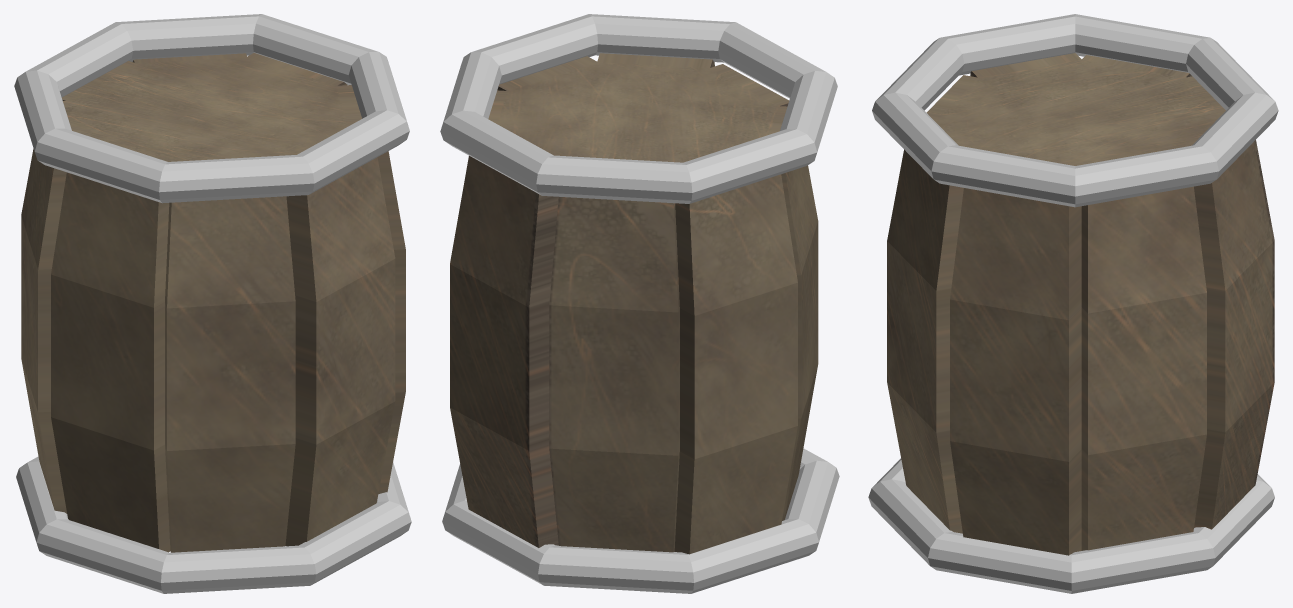
Rendered from barrel.obj.
3 renders of one model, left to right at view 1: azimuth 30°, elevation 25°; view 2: azimuth 150°, elevation 25°; view 3: azimuth 270°, elevation 25°, orthographic.
Parts seen in each view (by area): view 1: Cylinder.003_Cylinder.004, Torus.001, Torus; view 2: Cylinder.003_Cylinder.004, Torus.001, Torus; view 3: Cylinder.003_Cylinder.004, Torus.001, Torus.
Boxes of the visible parts, x1,y1,x2,y2 form: Cylinder.003_Cylinder.004: (21, 53, 405, 552); Torus.001: (14, 14, 409, 203); Torus: (16, 456, 411, 593); Cylinder.003_Cylinder.004: (450, 53, 818, 554); Torus.001: (440, 14, 837, 203); Torus: (442, 448, 839, 593); Cylinder.003_Cylinder.004: (887, 53, 1274, 555); Torus.001: (872, 14, 1278, 207); Torus: (868, 458, 1274, 593).
Size of the model in its own units: 2.46 by 2.82 by 2.48.
Materials: 2 (1 with a texture image).
